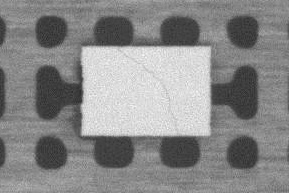DIE_CRACK: (116, 48, 177, 128)
